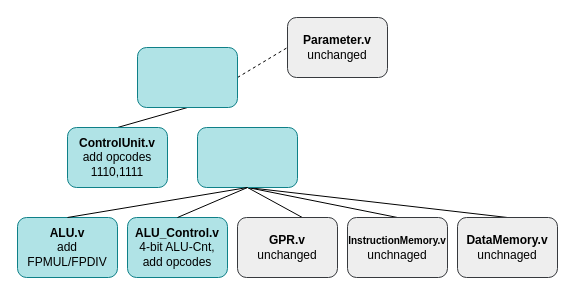
Image size: 575x295. Some labels were removed from this diagram. Here are the shapes that lost their labels. From the top down, the centre of each, then its label:
the point at 187,77: StarCore1.v add I/O ports
the point at 247,157: Datapath.v wire width update
